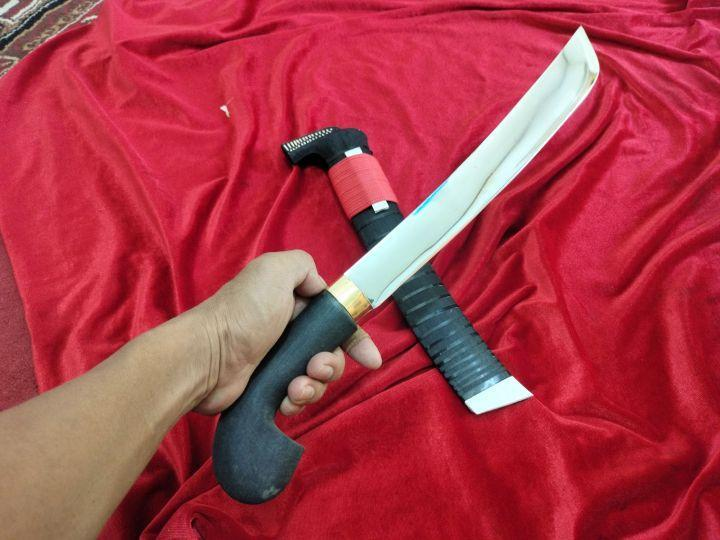espada: (204, 19, 618, 519)
